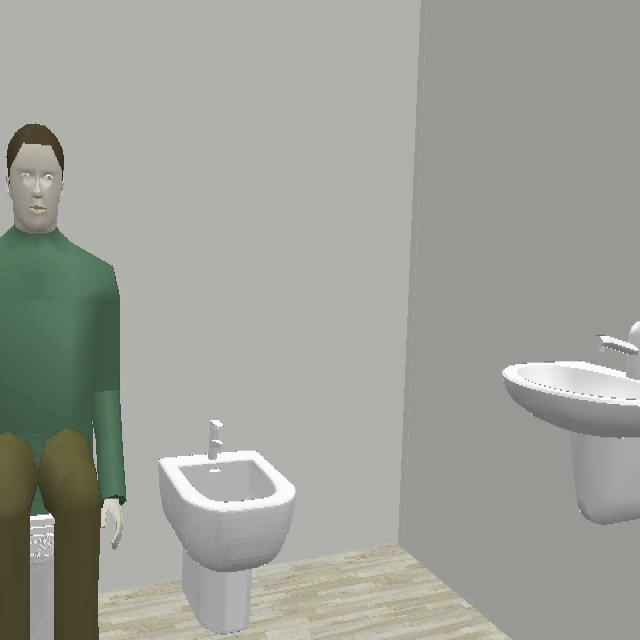person: (0, 124, 126, 640)
toilet: (29, 512, 57, 640)
washbasin: (158, 420, 297, 633), (501, 361, 640, 527)
